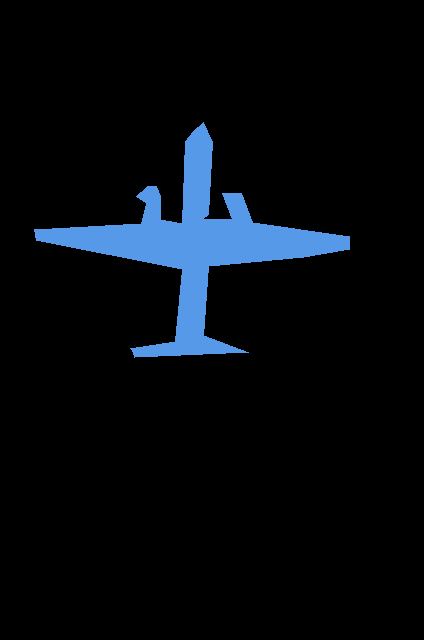Airplane: (34, 122, 349, 357)
